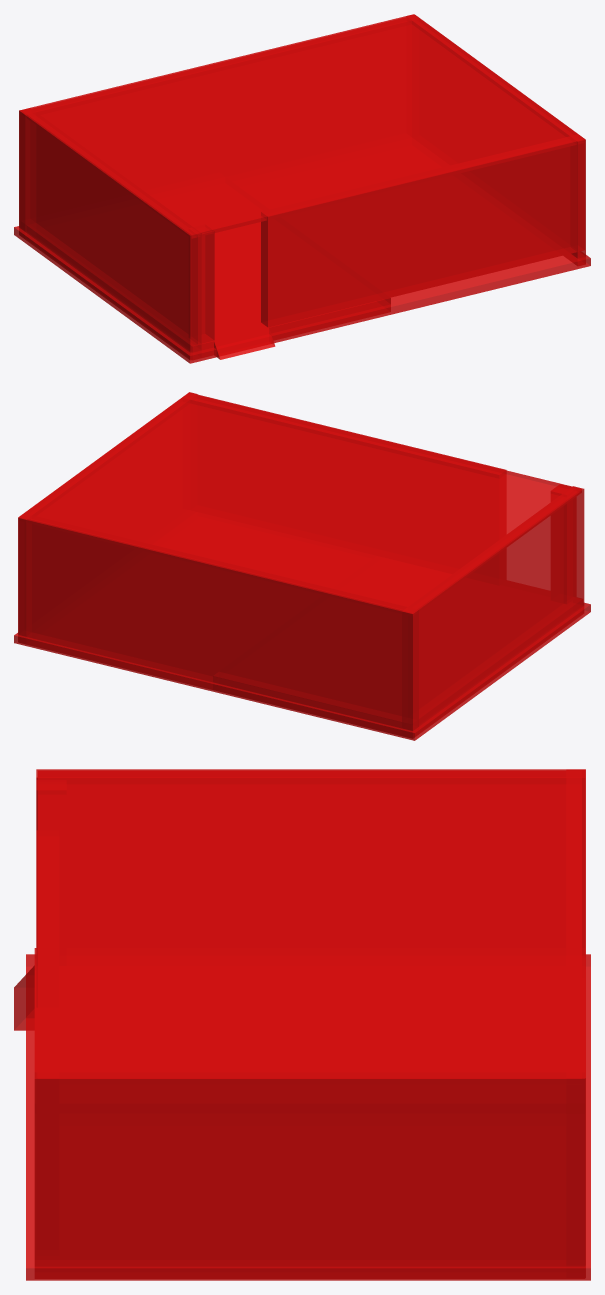
Rendered from SM_Bld_City_Section_Base_06_Collision.fbx.
The picture shows the model from 3 angles, top to bottom: view 1: azimuth 30°, elevation 25°; view 2: azimuth 150°, elevation 25°; view 3: azimuth 270°, elevation 25°; orthographic projection. The views are drawn at different scales.
Visible parts, largest first — view 1: SM_Bld_City_Section_Base_06_Collision; view 2: SM_Bld_City_Section_Base_06_Collision; view 3: SM_Bld_City_Section_Base_06_Collision.
Part boxes in pixels (<box>): SM_Bld_City_Section_Base_06_Collision: <box>14,14,590,363</box>; SM_Bld_City_Section_Base_06_Collision: <box>14,392,590,740</box>; SM_Bld_City_Section_Base_06_Collision: <box>14,769,590,1280</box>.
Bounding box in the file's own units: 1018 × 303 × 791.
